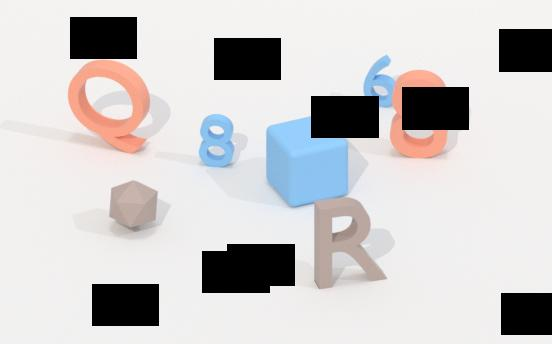6: (362, 52, 398, 112)
8: (389, 64, 448, 162), (198, 111, 236, 169)
R-hoa: (311, 195, 390, 291)
dagiac: (109, 177, 160, 234)
hop: (265, 111, 352, 209)
q: (69, 56, 149, 157)
